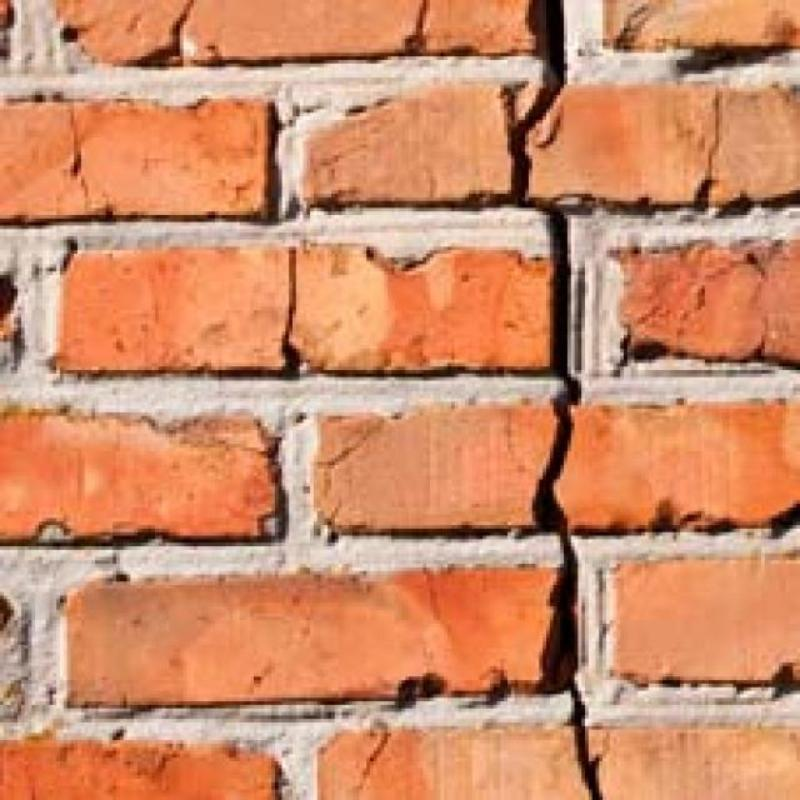crack: (506, 0, 603, 799), (694, 90, 722, 206), (281, 249, 304, 378), (154, 0, 198, 60), (405, 0, 431, 55)
